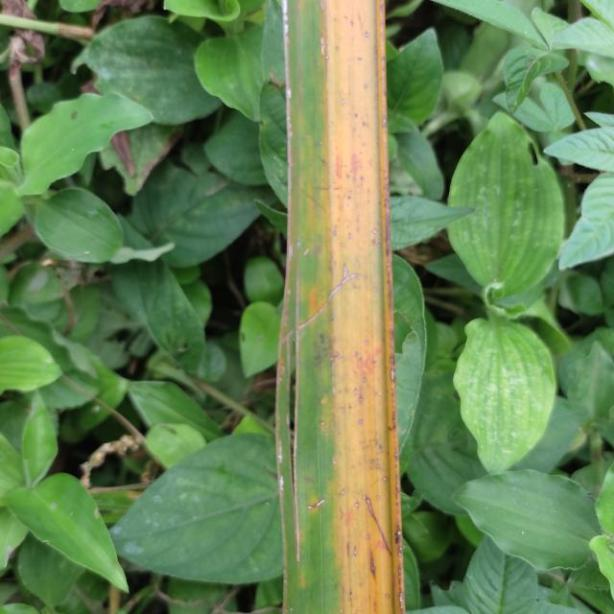Megnesium: (274, 0, 405, 614)
